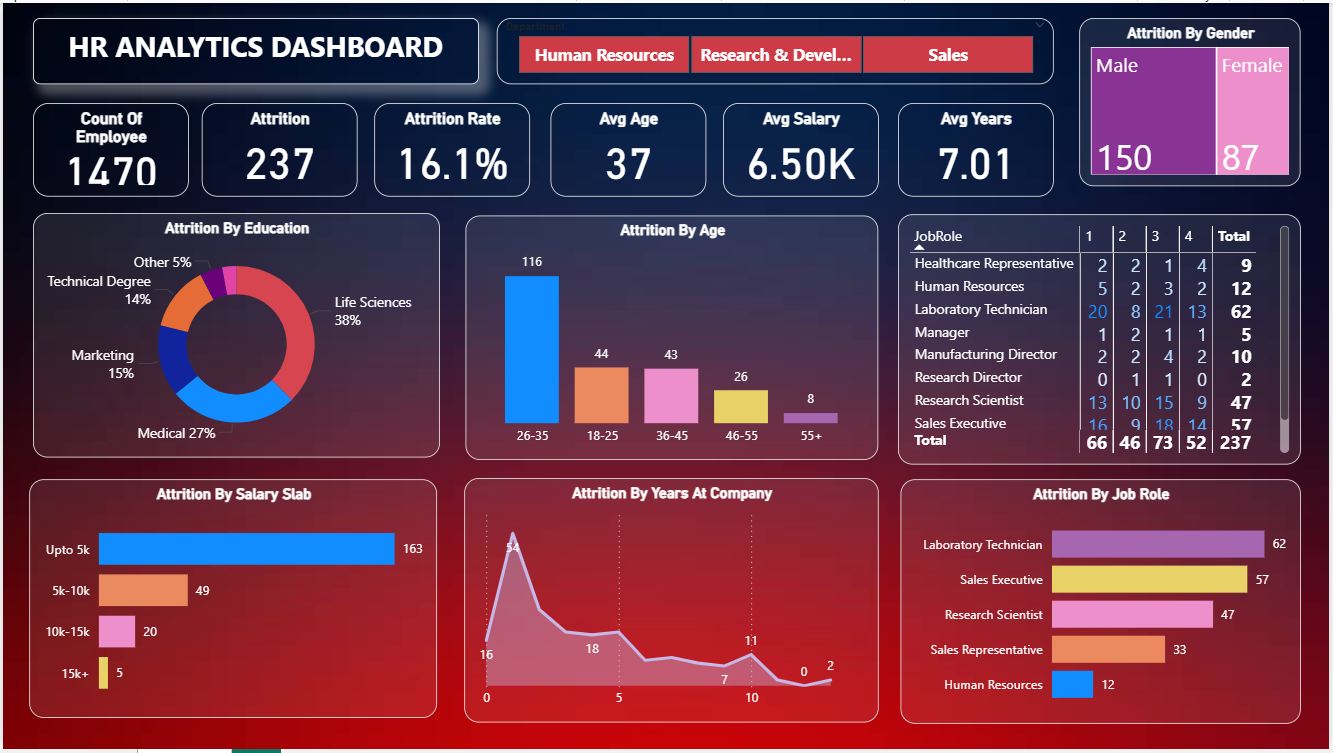

The page's visual inventory and layout, read from the dashboard file:
{"tool":"powerbi","page":{"name":"Page 1","canvas":[1280,720],"ordinal":0},"visuals":[{"type":"card","title":"Count Of Employee","fields":{"Values":["Count(HR_Analytics1.EmpID)"]},"box":[28.8,96.2,150,90],"z":0},{"type":"card","title":"Attrition","fields":{"Values":["Sum(HR_Analytics1.Attrition_colmun)"]},"box":[191.2,96.2,150,90],"z":1000},{"type":"card","title":"Attrition Rate","fields":{"Values":["HR_Analytics1.AttritionRate"]},"box":[358.8,96.2,150,90],"z":2000},{"type":"card","title":"Avg Age","fields":{"Values":["Avg(HR_Analytics1.Age)"]},"box":[528.8,96.2,150,90],"z":3000},{"type":"card","title":"Avg Salary","fields":{"Values":["Avg(HR_Analytics1.MonthlyIncome)"]},"box":[695,96.2,150,90],"z":4000},{"type":"slicer","title":"Avg Year","fields":{"Values":["HR_Analytics1.Department"]},"box":[476.2,15,537.5,63.8],"z":5000},{"type":"donutChart","title":"Attrition By Education","fields":{"Category":["HR_Analytics1.EducationField"],"Y":["Sum(HR_Analytics1.Attrition_count)"]},"box":[28.8,202.5,392.5,236.2],"z":6000},{"type":"treemap","title":"Attrition By Gender","fields":{"Group":["HR_Analytics1.Gender"],"Values":["Sum(HR_Analytics1.Attrition_count)"]},"box":[1038.8,15,213.8,162.5],"z":7000},{"type":"pivotTable","title":"Attrition By Education","fields":{"Values":["Sum(HR_Analytics1.Attrition_count)"],"Rows":["HR_Analytics1.JobRole"],"Columns":["HR_Analytics1.JobSatisfaction"]},"box":[863.8,203.8,388.8,241.2],"z":8000},{"type":"clusteredBarChart","title":"Attrition By Salary Slab","fields":{"Category":["HR_Analytics1.SalarySlab"],"Y":["Sum(HR_Analytics1.Attrition_count)"]},"box":[25,459.7,393.8,230.3],"z":9000},{"type":"clusteredBarChart","title":"Attrition By Job Role","fields":{"Y":["Sum(HR_Analytics1.Attrition_count)"],"Category":["HR_Analytics1.JobRole"]},"box":[866.7,460,386.2,236.2],"z":10000},{"type":"areaChart","title":"Attrition By Years At Company","fields":{"Category":["HR_Analytics1.YearsAtCompany"],"Y":["Sum(HR_Analytics1.Attrition_count)"]},"box":[445.3,458.8,400,236.2],"z":11000},{"type":"columnChart","title":"Attrition By Age","fields":{"Category":["HR_Analytics1.AgeGroup"],"Y":["Sum(HR_Analytics1.Attrition_count)"]},"box":[446.2,205,398.8,236.2],"z":12000},{"type":"card","title":"Avg Years","fields":{"Values":["Avg(HR_Analytics1.YearsAtCompany)"]},"box":[863.8,96.2,150,90],"z":12001},{"type":"textbox","box":[28.8,15,430,63.8],"z":12002}]}

Visuals, with their boxes in screenshot pixels (x1, y1, x2, y2), scaled from the page's 1280x720 canvas onto the 1333x753 screenshot:
"Count Of Employee" card: bbox=(30, 101, 186, 195)
"Attrition" card: bbox=(199, 101, 355, 195)
"Attrition Rate" card: bbox=(374, 101, 530, 195)
"Avg Age" card: bbox=(551, 101, 707, 195)
"Avg Salary" card: bbox=(724, 101, 880, 195)
"Avg Year" slicer: bbox=(496, 16, 1056, 82)
"Attrition By Education" donutChart: bbox=(30, 212, 439, 459)
"Attrition By Gender" treemap: bbox=(1082, 16, 1304, 186)
"Attrition By Education" pivotTable: bbox=(900, 213, 1304, 465)
"Attrition By Salary Slab" clusteredBarChart: bbox=(26, 481, 436, 722)
"Attrition By Job Role" clusteredBarChart: bbox=(903, 481, 1305, 728)
"Attrition By Years At Company" areaChart: bbox=(464, 480, 880, 727)
"Attrition By Age" columnChart: bbox=(465, 214, 880, 461)
"Avg Years" card: bbox=(900, 101, 1056, 195)
textbox: bbox=(30, 16, 478, 82)
